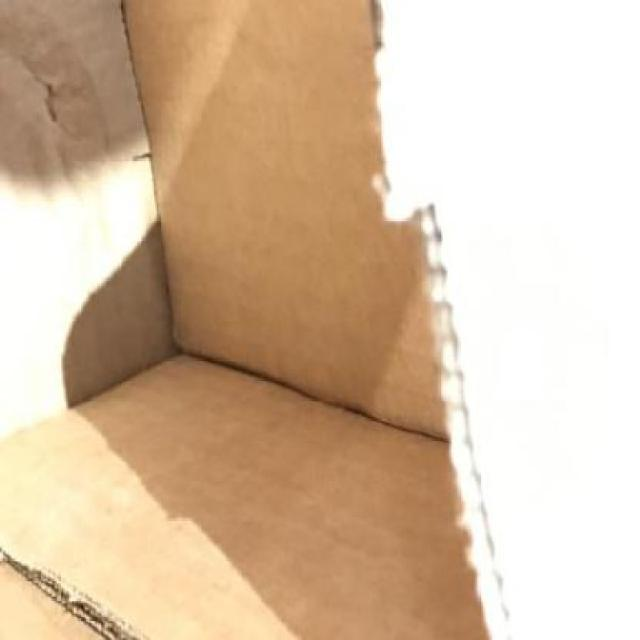CARDBOARD: (0, 0, 516, 640)
